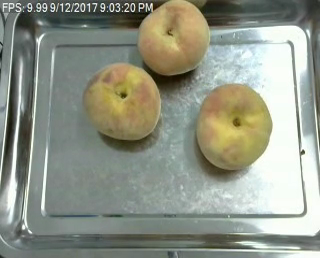Peach: (195, 83, 276, 170), (84, 62, 159, 139), (138, 0, 210, 76)
